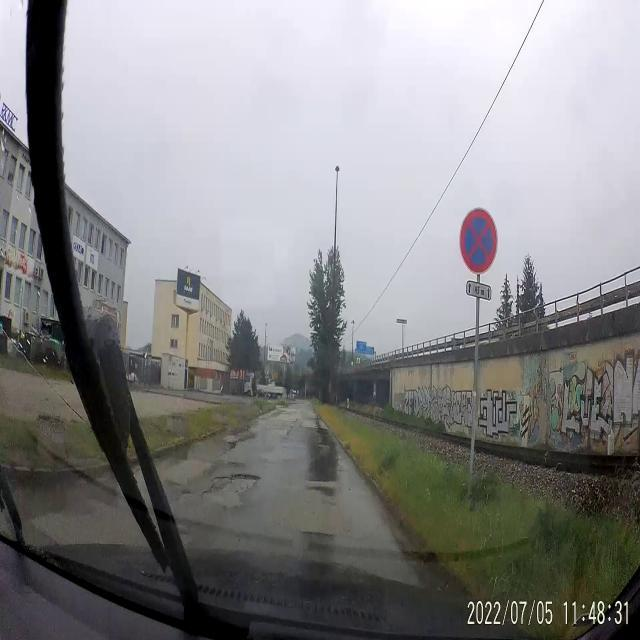Pothole: (202, 468, 257, 514), (304, 479, 338, 501), (172, 488, 192, 502), (224, 438, 238, 453), (316, 439, 331, 451)
